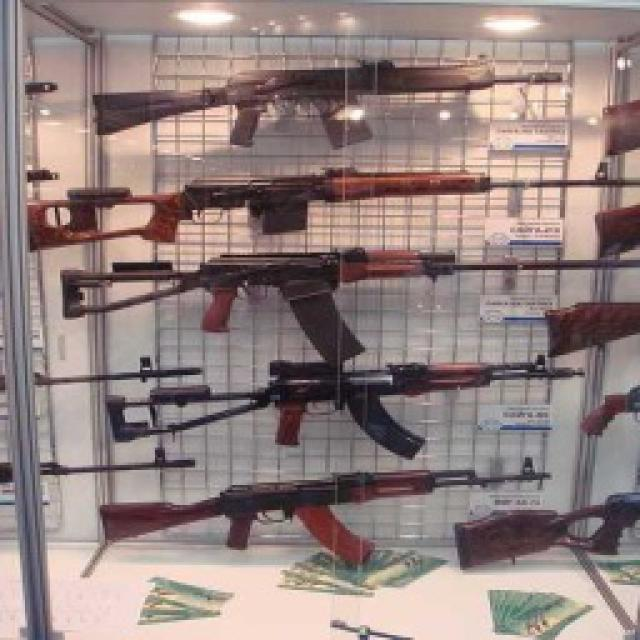long weapon: (22, 120, 480, 270), (131, 306, 539, 464), (99, 440, 506, 587), (77, 18, 436, 170), (52, 238, 475, 350)
